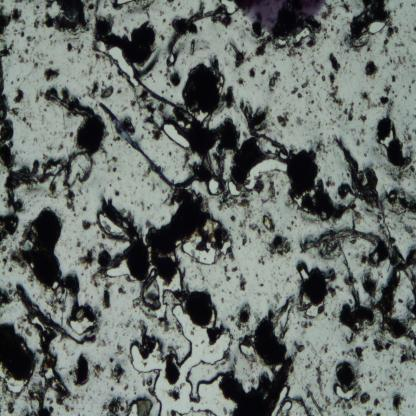Air bubble: (150, 284, 194, 364), (128, 340, 164, 416), (95, 40, 141, 90), (185, 352, 227, 403), (243, 156, 287, 192), (180, 237, 216, 265), (96, 212, 126, 240), (163, 122, 190, 149), (272, 385, 290, 416), (105, 262, 132, 280), (332, 382, 356, 402), (69, 319, 96, 336), (168, 408, 216, 416), (304, 300, 325, 318), (378, 127, 394, 148), (368, 20, 388, 36), (240, 342, 256, 357), (227, 180, 240, 196), (208, 177, 219, 195), (127, 400, 138, 416), (300, 265, 310, 279), (282, 399, 292, 411), (170, 53, 178, 64)
Background material: (218, 295, 296, 416), (6, 204, 80, 300), (287, 147, 349, 224), (19, 323, 70, 416), (334, 134, 383, 208), (42, 148, 96, 215), (92, 13, 158, 66), (184, 52, 236, 119), (179, 284, 226, 349), (370, 215, 416, 278), (379, 270, 416, 348), (198, 113, 239, 177), (338, 288, 381, 344), (343, 0, 393, 47), (0, 320, 37, 379), (3, 158, 43, 212), (16, 34, 60, 82), (230, 135, 265, 188), (297, 266, 338, 310), (45, 84, 96, 118), (43, 0, 92, 34), (361, 76, 403, 113), (240, 94, 275, 138), (76, 114, 110, 155), (138, 265, 164, 315), (301, 352, 329, 398), (381, 185, 416, 221), (34, 280, 66, 314), (325, 71, 343, 131), (0, 116, 17, 171), (356, 264, 381, 298), (68, 293, 97, 322), (136, 317, 155, 361), (264, 235, 296, 261), (114, 307, 138, 340), (209, 219, 233, 252), (387, 138, 413, 167), (336, 362, 361, 392), (137, 47, 162, 77), (129, 88, 157, 114), (320, 0, 340, 36), (290, 61, 307, 100), (268, 262, 291, 290), (383, 166, 416, 185), (393, 44, 416, 71), (0, 211, 20, 242), (340, 244, 354, 288), (228, 41, 248, 71), (165, 351, 181, 387), (162, 106, 190, 126), (0, 59, 9, 121), (366, 365, 387, 391), (74, 351, 90, 385), (236, 302, 252, 335), (305, 385, 322, 416), (102, 395, 127, 416), (306, 88, 324, 116), (379, 37, 393, 71), (348, 398, 374, 416), (0, 277, 14, 310), (314, 132, 335, 154), (143, 116, 162, 140), (78, 245, 95, 271), (384, 366, 404, 388), (293, 396, 314, 416), (262, 179, 278, 205), (239, 205, 257, 228), (407, 275, 416, 321), (342, 100, 361, 121), (89, 266, 107, 288), (133, 0, 155, 18), (347, 204, 363, 228), (351, 127, 369, 148), (274, 108, 292, 129), (254, 35, 272, 56), (377, 114, 392, 139), (399, 344, 416, 366), (287, 36, 304, 58), (392, 390, 406, 416), (254, 169, 286, 180), (136, 397, 154, 416), (296, 321, 314, 340), (0, 3, 11, 34), (364, 60, 380, 81), (262, 209, 275, 234), (157, 315, 176, 332), (76, 332, 96, 348), (130, 198, 152, 212), (353, 345, 369, 364), (300, 211, 320, 226), (110, 362, 125, 382), (343, 54, 358, 74), (11, 6, 26, 26), (268, 70, 281, 92), (100, 79, 114, 99), (92, 308, 103, 333), (92, 361, 107, 379), (217, 195, 237, 208), (86, 81, 99, 101), (105, 156, 120, 173), (401, 121, 412, 144), (329, 53, 341, 74), (403, 222, 416, 241), (166, 387, 182, 402), (380, 391, 392, 411), (17, 323, 34, 337), (251, 21, 264, 39), (385, 14, 394, 40), (372, 336, 385, 353), (101, 290, 112, 310), (111, 0, 133, 10), (221, 262, 232, 282), (12, 86, 24, 104), (123, 115, 135, 133), (384, 337, 398, 352), (182, 149, 192, 170), (321, 251, 342, 261), (252, 180, 265, 196), (0, 378, 8, 404), (237, 196, 254, 208), (145, 376, 155, 396), (272, 38, 287, 51), (95, 333, 107, 349), (331, 36, 343, 52), (93, 0, 101, 23), (339, 0, 353, 13), (364, 204, 377, 218), (225, 246, 236, 262), (0, 42, 10, 59), (238, 230, 248, 247), (60, 106, 67, 130), (294, 339, 306, 353), (310, 59, 320, 75), (142, 166, 152, 182), (288, 294, 300, 307), (12, 26, 26, 37), (307, 32, 317, 47), (25, 268, 35, 283), (240, 184, 250, 199), (339, 15, 349, 30), (296, 302, 312, 311), (81, 219, 94, 230), (8, 104, 21, 115), (72, 392, 82, 406), (34, 89, 44, 103), (272, 290, 282, 304), (171, 70, 181, 84), (321, 404, 332, 416), (266, 299, 278, 310), (360, 250, 368, 266), (240, 274, 247, 292), (235, 76, 246, 87), (328, 284, 336, 299), (6, 402, 16, 414), (114, 344, 124, 356), (360, 392, 370, 404), (341, 348, 354, 357), (342, 402, 350, 416), (132, 297, 142, 308), (319, 343, 329, 354), (190, 38, 196, 56), (63, 36, 80, 42), (96, 240, 106, 250), (124, 4, 134, 14), (156, 102, 165, 113), (326, 176, 335, 187), (74, 238, 82, 250), (392, 122, 398, 138), (188, 324, 196, 336), (198, 0, 204, 16), (163, 192, 171, 204), (354, 383, 362, 395), (118, 284, 127, 294), (66, 42, 75, 52), (86, 3, 96, 12), (103, 281, 114, 289), (60, 239, 68, 250), (64, 342, 70, 356), (124, 347, 131, 359), (380, 146, 387, 158), (88, 63, 94, 77), (258, 254, 265, 266), (247, 53, 256, 62), (0, 244, 8, 254), (76, 43, 84, 53), (334, 398, 342, 408), (249, 223, 259, 231), (57, 142, 65, 152), (107, 70, 115, 80), (225, 314, 235, 322), (276, 130, 284, 140), (249, 377, 257, 387), (164, 0, 175, 7), (324, 395, 331, 406), (164, 68, 171, 79), (310, 341, 316, 353), (112, 134, 121, 142), (375, 132, 381, 144), (95, 53, 101, 65), (250, 66, 256, 78), (389, 354, 395, 366), (76, 185, 83, 195), (46, 143, 53, 153), (334, 284, 344, 291), (114, 188, 121, 198), (216, 250, 223, 260), (321, 22, 327, 33), (176, 322, 182, 333), (166, 56, 172, 67), (256, 228, 262, 239), (389, 223, 397, 231), (26, 123, 34, 131), (408, 165, 416, 173), (46, 396, 54, 404), (393, 25, 400, 34), (18, 115, 27, 122), (145, 219, 152, 228), (296, 116, 302, 126), (8, 40, 14, 50), (332, 311, 338, 321), (374, 397, 379, 409), (280, 179, 286, 189), (2, 256, 8, 266), (395, 42, 405, 48), (103, 148, 108, 160), (407, 144, 414, 152), (360, 115, 367, 123), (54, 209, 62, 216), (306, 138, 313, 146), (49, 40, 57, 47), (213, 281, 221, 288), (34, 19, 39, 30), (84, 0, 90, 9), (103, 0, 109, 9), (353, 47, 362, 53), (123, 383, 129, 392), (372, 145, 378, 154), (336, 269, 345, 275), (122, 105, 129, 112), (66, 111, 73, 118), (409, 378, 416, 385), (159, 35, 166, 42), (68, 56, 74, 64), (180, 382, 186, 390), (152, 180, 156, 192), (231, 266, 239, 272), (405, 109, 410, 118), (314, 409, 320, 416), (42, 155, 48, 162), (354, 252, 360, 259), (166, 81, 172, 88), (48, 406, 54, 413), (204, 43, 210, 50), (398, 297, 404, 304), (230, 215, 236, 222), (94, 101, 99, 109), (8, 266, 13, 274), (305, 339, 310, 347), (82, 204, 87, 212), (130, 286, 135, 294), (263, 58, 268, 66), (332, 358, 337, 366), (224, 42, 228, 52), (62, 131, 67, 139), (124, 26, 129, 34), (14, 0, 24, 4), (317, 165, 322, 173), (250, 361, 254, 371), (374, 352, 379, 360), (320, 38, 324, 47), (46, 101, 52, 107), (366, 47, 372, 53), (142, 378, 146, 387), (306, 75, 310, 84), (408, 85, 412, 94), (70, 406, 76, 412), (286, 226, 292, 232), (174, 148, 180, 154), (41, 20, 45, 29), (317, 154, 326, 158), (58, 367, 67, 371), (360, 373, 365, 380), (33, 9, 38, 16), (348, 298, 353, 305), (160, 165, 165, 172), (330, 343, 335, 350), (133, 385, 136, 396), (364, 334, 368, 342), (317, 121, 321, 129), (96, 230, 100, 238), (290, 366, 294, 374), (322, 74, 326, 82), (5, 74, 9, 82), (280, 227, 284, 235), (255, 273, 259, 281), (290, 306, 294, 314), (403, 30, 407, 38), (412, 113, 416, 121), (223, 406, 227, 414), (118, 86, 122, 94), (102, 186, 106, 194), (323, 32, 327, 40), (236, 35, 242, 40), (311, 47, 317, 52), (48, 34, 54, 39), (261, 69, 266, 75), (410, 38, 416, 43), (343, 49, 349, 54), (142, 361, 147, 367), (399, 2, 404, 8), (175, 170, 180, 176), (245, 27, 251, 32), (35, 4, 41, 9), (411, 77, 416, 83), (66, 405, 70, 412), (364, 151, 368, 158), (228, 47, 232, 54), (110, 356, 114, 363), (163, 17, 167, 24), (255, 292, 262, 296), (374, 412, 381, 416), (248, 237, 252, 244), (66, 378, 70, 385), (412, 128, 416, 135), (392, 75, 396, 82), (345, 399, 350, 404), (233, 18, 238, 23), (137, 162, 142, 167), (162, 188, 167, 193), (402, 95, 407, 100), (244, 20, 249, 25), (120, 18, 125, 23), (370, 85, 375, 90), (156, 182, 161, 187), (411, 70, 416, 75), (12, 236, 16, 242), (255, 83, 259, 89), (286, 410, 290, 416), (282, 85, 286, 91), (334, 325, 337, 333), (289, 130, 293, 136), (221, 296, 224, 304), (276, 190, 280, 196), (34, 137, 38, 143), (130, 172, 134, 178), (70, 370, 74, 376), (82, 92, 86, 98), (102, 234, 106, 240), (168, 151, 172, 157), (110, 178, 114, 184), (320, 64, 324, 70), (110, 385, 114, 391), (398, 21, 402, 27), (201, 340, 205, 346), (346, 172, 350, 178), (69, 132, 73, 138), (262, 228, 266, 234), (0, 39, 6, 43), (87, 53, 91, 59), (107, 338, 110, 346), (292, 379, 295, 386), (216, 34, 221, 38), (280, 411, 284, 416), (301, 46, 305, 51), (44, 193, 48, 198), (36, 78, 40, 83), (103, 322, 108, 326), (407, 404, 411, 409), (3, 197, 7, 202), (42, 114, 44, 124), (5, 31, 9, 36), (407, 182, 411, 187), (200, 46, 204, 51), (159, 11, 163, 16), (22, 139, 26, 144), (119, 13, 123, 18), (242, 42, 245, 48), (28, 111, 31, 117), (28, 0, 34, 3), (85, 72, 88, 78), (327, 34, 330, 40), (310, 55, 314, 59), (411, 3, 415, 7), (298, 312, 302, 316), (274, 99, 278, 103), (10, 81, 14, 85), (378, 74, 382, 78), (324, 312, 328, 316), (178, 2, 182, 6), (288, 255, 292, 259), (312, 74, 316, 78), (199, 26, 203, 30), (228, 291, 232, 295), (320, 132, 324, 136), (286, 258, 290, 262), (412, 159, 416, 163), (173, 7, 176, 12), (91, 295, 94, 300), (86, 188, 89, 193), (303, 120, 306, 125), (357, 58, 360, 63), (338, 303, 341, 308), (331, 161, 334, 166), (338, 324, 341, 329), (17, 77, 20, 82), (2, 170, 5, 175), (118, 176, 121, 181), (73, 212, 76, 217), (294, 215, 297, 220), (413, 136, 416, 141), (413, 26, 416, 31), (291, 220, 294, 225), (396, 75, 399, 80), (404, 378, 407, 383), (316, 74, 319, 79), (66, 78, 69, 83), (286, 263, 289, 268), (0, 0, 5, 3), (301, 375, 303, 382), (260, 283, 264, 286), (161, 152, 164, 156), (280, 102, 283, 106), (299, 110, 302, 114), (316, 63, 320, 66), (314, 115, 317, 119), (52, 346, 55, 350), (372, 127, 375, 131), (294, 281, 297, 285), (280, 216, 283, 220), (44, 108, 47, 112), (346, 130, 349, 134), (119, 80, 122, 84), (77, 412, 80, 416), (328, 318, 331, 322), (404, 398, 407, 402), (330, 355, 333, 359), (282, 48, 285, 52), (133, 191, 136, 195), (71, 352, 75, 355), (69, 364, 72, 368), (34, 194, 37, 198), (173, 155, 176, 159), (82, 272, 85, 276), (168, 23, 172, 26), (408, 28, 410, 34), (149, 74, 152, 78), (327, 336, 330, 340), (261, 240, 264, 244), (54, 130, 57, 134), (273, 64, 276, 68), (250, 192, 254, 195), (236, 275, 239, 279), (408, 34, 411, 38), (68, 254, 70, 259), (338, 353, 340, 358), (76, 198, 78, 203), (79, 95, 81, 100), (364, 55, 366, 60), (86, 387, 88, 392), (162, 216, 164, 221), (109, 184, 112, 187), (295, 412, 298, 415), (308, 128, 311, 131), (393, 10, 396, 13), (305, 48, 308, 51), (294, 377, 297, 380), (323, 88, 326, 91), (238, 247, 241, 250), (180, 161, 183, 164), (354, 91, 357, 94), (317, 47, 320, 50), (124, 194, 127, 197), (173, 160, 176, 163), (224, 31, 227, 34), (408, 10, 411, 13), (327, 372, 330, 375), (155, 149, 158, 152), (291, 123, 294, 126), (213, 294, 216, 297), (361, 60, 364, 63), (410, 395, 413, 398), (402, 84, 405, 87), (166, 89, 168, 93), (383, 354, 385, 358), (331, 327, 333, 331), (301, 386, 303, 390), (355, 54, 359, 56), (412, 404, 414, 408), (50, 131, 52, 135), (326, 326, 328, 330), (372, 136, 374, 140), (118, 30, 120, 34), (90, 395, 92, 399), (314, 82, 316, 86), (130, 19, 134, 21), (290, 339, 292, 343), (160, 70, 162, 74), (162, 90, 164, 94), (17, 230, 19, 234), (148, 182, 150, 186), (337, 152, 339, 156), (98, 392, 100, 396), (358, 54, 362, 56), (236, 236, 238, 240), (348, 252, 350, 256), (261, 210, 262, 217), (129, 339, 132, 341), (296, 310, 298, 313), (317, 52, 319, 55), (338, 405, 341, 407), (413, 391, 416, 393), (413, 108, 416, 110), (277, 209, 279, 212), (379, 395, 381, 398), (335, 351, 337, 354), (82, 407, 84, 410), (403, 405, 406, 407), (360, 110, 363, 112), (297, 367, 300, 369), (28, 200, 30, 203), (398, 109, 400, 112), (312, 127, 314, 130), (159, 146, 161, 149), (146, 76, 149, 78), (405, 14, 408, 16), (153, 80, 155, 83), (406, 24, 408, 27), (135, 186, 137, 189), (0, 194, 3, 196), (348, 142, 350, 145), (110, 144, 113, 146), (295, 224, 297, 227), (82, 70, 84, 73), (156, 156, 158, 159), (229, 227, 232, 229), (293, 313, 295, 315), (333, 392, 335, 394), (282, 58, 284, 60), (301, 119, 303, 121), (318, 119, 320, 121), (278, 96, 280, 98), (307, 58, 309, 60), (286, 292, 288, 294), (277, 230, 279, 232), (321, 87, 323, 89), (324, 160, 326, 162), (322, 158, 324, 160), (411, 368, 413, 370), (406, 366, 408, 368), (324, 120, 326, 122), (410, 14, 412, 16), (400, 38, 402, 40), (399, 72, 401, 74), (409, 104, 411, 106), (294, 316, 296, 318), (394, 14, 396, 16), (171, 96, 173, 98), (145, 78, 146, 81), (326, 123, 327, 126), (306, 133, 307, 136), (315, 124, 316, 126), (364, 381, 365, 383), (298, 364, 299, 366), (152, 78, 153, 80), (414, 99, 416, 100), (305, 144, 306, 146), (403, 414, 404, 416), (400, 41, 401, 43), (283, 57, 284, 58), (30, 205, 31, 206), (166, 32, 167, 33)
Cellulose filter fibre: (168, 0, 233, 55), (16, 283, 76, 341), (299, 225, 381, 252)
Cotton: (100, 102, 204, 190)
Pen: (234, 0, 327, 38)
